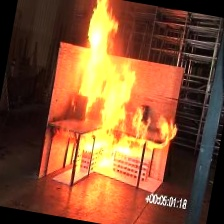fire: (48, 0, 199, 189)
